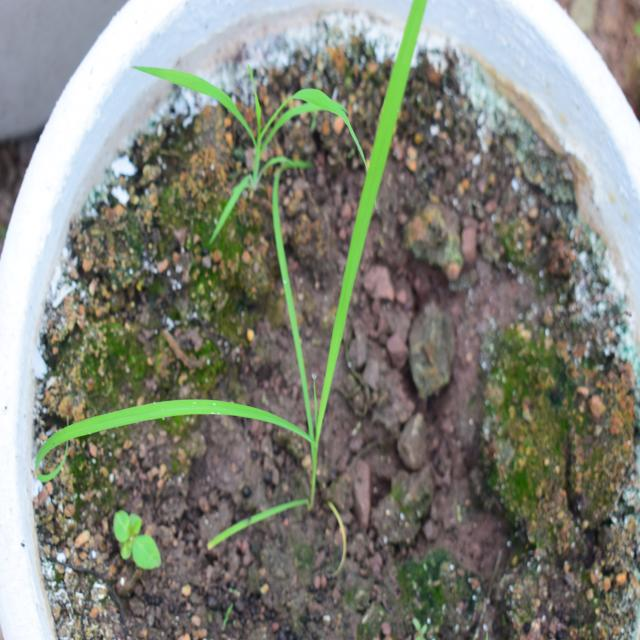barnyard_grass: (21, 56, 465, 478)
